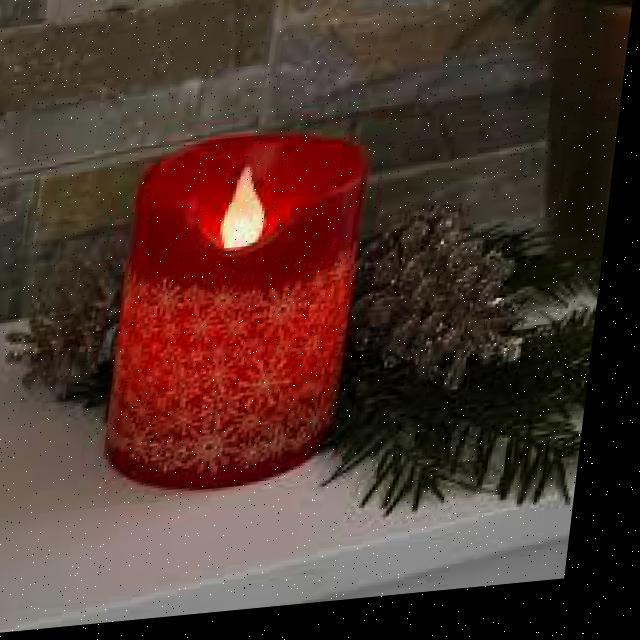Fire: (218, 157, 278, 260)
